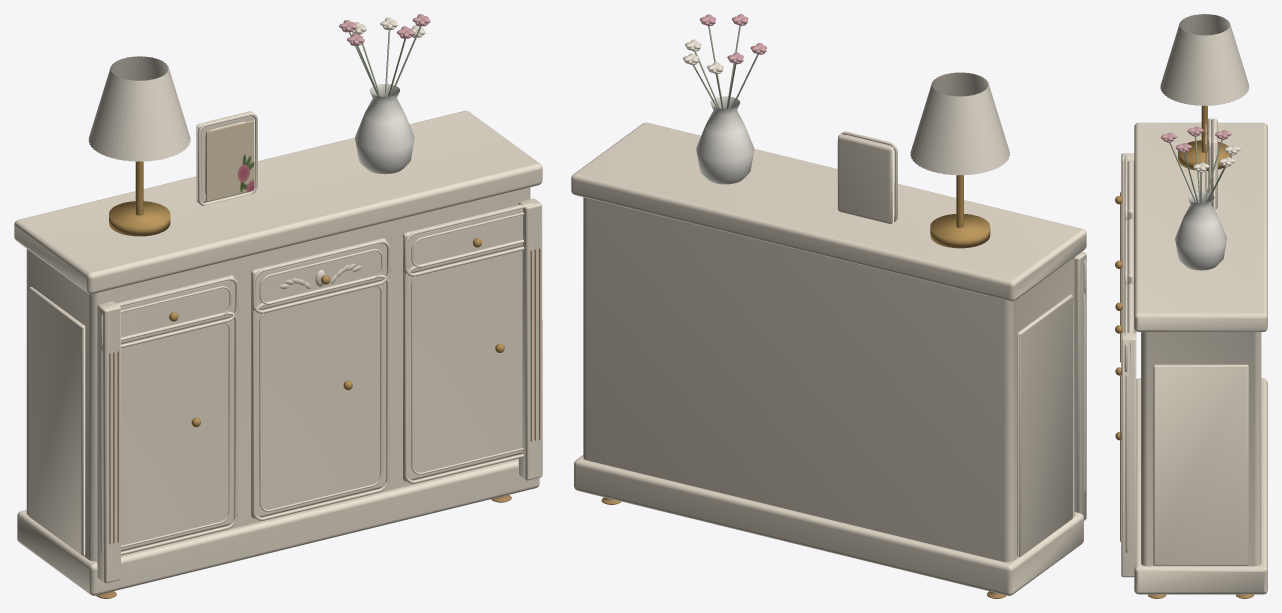
Rendered from entry.glb.
3 renders of one model, left to right at view 1: azimuth 30°, elevation 25°; view 2: azimuth 150°, elevation 25°; view 3: azimuth 270°, elevation 25°, orthographic. The views are drawn at different scales.
Visible parts, largest first — view 1: entry__Warm aged ivory lacquer, entry__Natural cream linen, entry__Glazed ivory ceramic, entry__Rose botanical print on linen, entry__Antique brass, entry__Honey ash exposed edges, entry__Sage linen; view 2: entry__Warm aged ivory lacquer, entry__Natural cream linen, entry__Glazed ivory ceramic, entry__Antique brass, entry__Sage linen; view 3: entry__Warm aged ivory lacquer, entry__Natural cream linen, entry__Glazed ivory ceramic, entry__Antique brass, entry__Sage linen, entry__Dusty rose washed cotton, entry__Honey ash exposed edges.
Boxes of the visible parts, x1,y1,x2,y2 form: entry__Warm aged ivory lacquer: [14, 110, 542, 595]; entry__Natural cream linen: [88, 17, 425, 161]; entry__Glazed ivory ceramic: [355, 84, 414, 174]; entry__Rose botanical print on linen: [206, 120, 253, 201]; entry__Antique brass: [97, 161, 510, 598]; entry__Honey ash exposed edges: [96, 248, 540, 598]; entry__Sage linen: [349, 26, 421, 96]; entry__Warm aged ivory lacquer: [571, 122, 1086, 595]; entry__Natural cream linen: [683, 39, 1009, 175]; entry__Glazed ivory ceramic: [696, 96, 754, 184]; entry__Antique brass: [602, 175, 1005, 598]; entry__Sage linen: [693, 25, 758, 108]; entry__Warm aged ivory lacquer: [1121, 118, 1267, 594]; entry__Natural cream linen: [1160, 14, 1249, 172]; entry__Glazed ivory ceramic: [1175, 191, 1226, 270]; entry__Antique brass: [1115, 105, 1253, 598]; entry__Sage linen: [1169, 136, 1231, 202]; entry__Dusty rose washed cotton: [1160, 126, 1231, 153]; entry__Honey ash exposed edges: [1120, 192, 1253, 598].
Size of the model in its own units: 1.2 by 1.24 by 0.4.
Materials: 8 (1 with a texture image).
